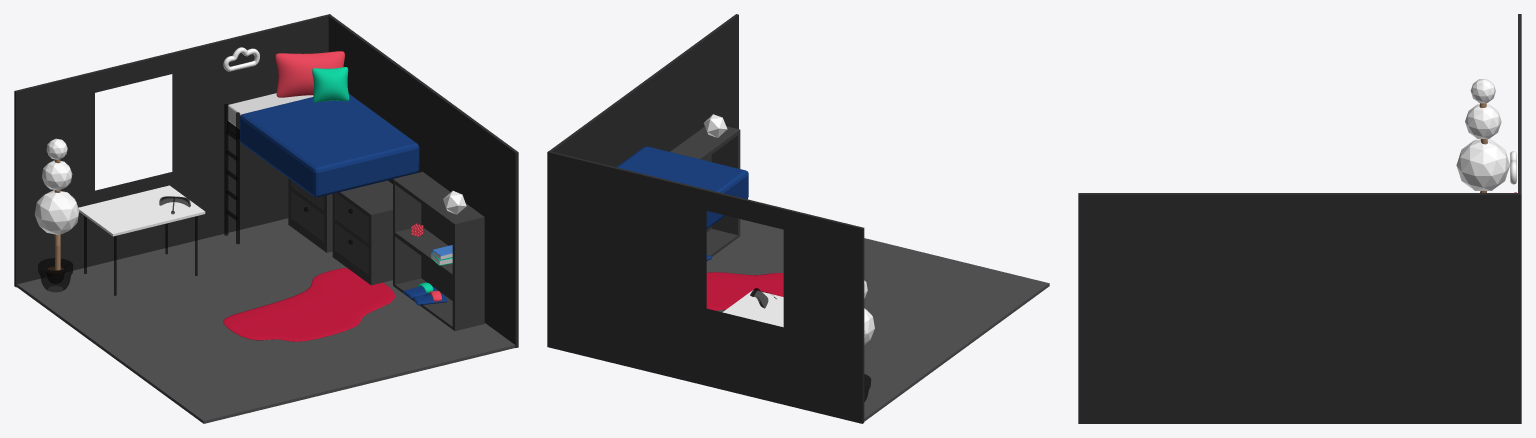
Rendered from room.glb.
The picture shows the model from 3 angles, left to right: view 1: azimuth 30°, elevation 25°; view 2: azimuth 150°, elevation 25°; view 3: azimuth 270°, elevation 25°; orthographic projection. The views are drawn at different scales.
Visible parts, largest first — view 1: floor, wall_N, wall_E, blanket, shelf, rug, drawer_frame_1.001, table_top, pillow_large, plant_3, pillow_small, drawer_frame_1 (+9 smaller); view 2: wall_N, floor, wall_E, blanket, shelf, rug, table_top; view 3: wall_E, plant_3, wall_N, plant_2, plant_1.
Part boxes in pixels (x1,y1,x2,y2): floor: [17, 218, 515, 423]; wall_N: [14, 14, 330, 287]; wall_E: [328, 14, 518, 347]; blanket: [240, 94, 419, 197]; shelf: [393, 171, 484, 330]; rug: [223, 268, 395, 341]; drawer_frame_1.001: [332, 180, 392, 285]; table_top: [78, 185, 205, 236]; pillow_large: [275, 51, 344, 97]; plant_3: [34, 190, 79, 234]; pillow_small: [312, 67, 349, 102]; drawer_frame_1: [288, 178, 332, 252]; wall_N: [547, 151, 864, 423]; floor: [706, 219, 1049, 421]; wall_E: [549, 14, 738, 166]; blanket: [616, 146, 748, 229]; shelf: [670, 126, 740, 256]; rug: [706, 272, 783, 310]; table_top: [722, 290, 783, 327]; wall_E: [1078, 193, 1519, 423]; plant_3: [1456, 139, 1510, 190]; wall_N: [1518, 14, 1521, 423]; plant_2: [1465, 104, 1501, 138]; plant_1: [1470, 79, 1495, 103].
Bounding box in the file's own units: 6.6 × 3.91 × 6.84.
